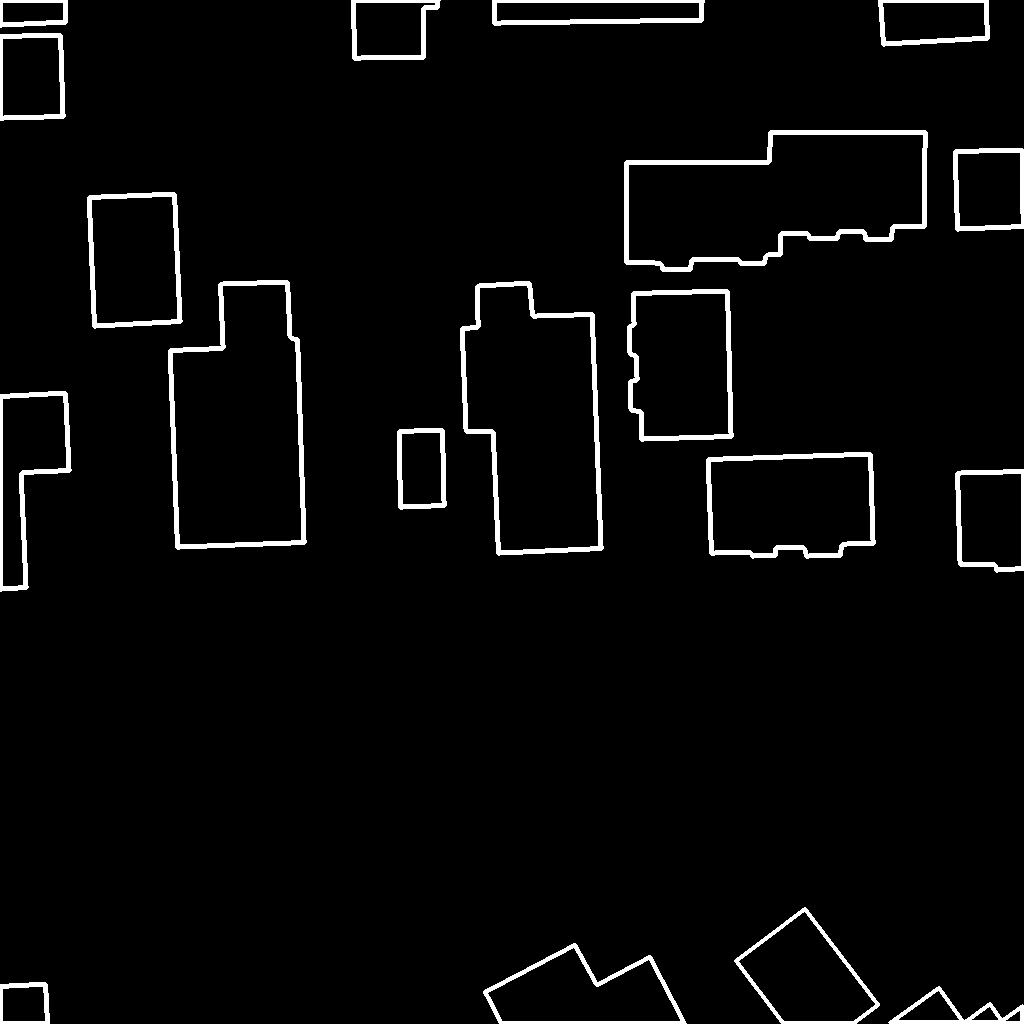building: (626, 132, 926, 270), (462, 283, 602, 554), (170, 282, 305, 548), (708, 454, 874, 557), (736, 909, 879, 1024), (485, 945, 686, 1024), (629, 291, 732, 440), (0, 393, 70, 590), (89, 194, 181, 327), (957, 471, 1024, 571), (955, 150, 1024, 230), (0, 35, 64, 119), (353, 0, 439, 59), (494, 0, 703, 24), (880, 0, 989, 45), (890, 988, 1024, 1024), (399, 430, 445, 508), (0, 984, 49, 1024), (0, 0, 67, 26)
